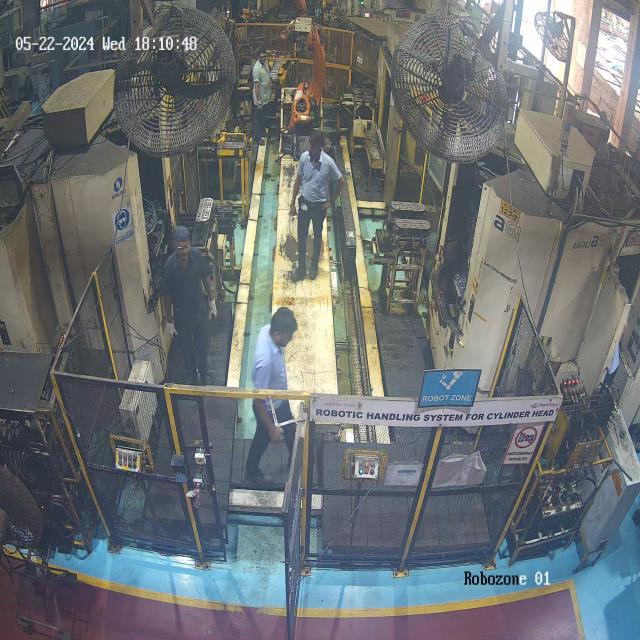person: (247, 314, 327, 504), (148, 224, 228, 410), (286, 123, 352, 303), (244, 43, 292, 152)
